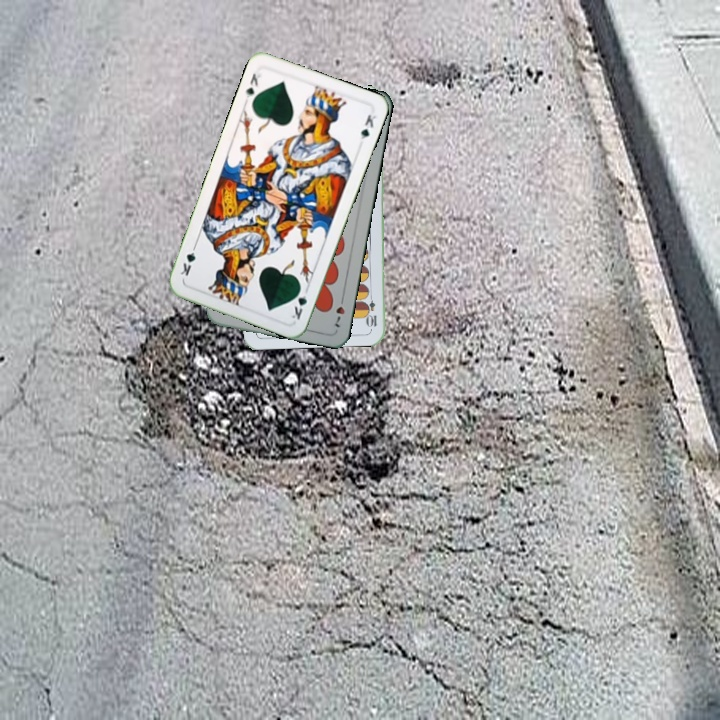E10: (364, 289, 379, 330)
GK: (287, 282, 311, 322), (241, 69, 263, 101)
H7: (329, 291, 347, 330)
